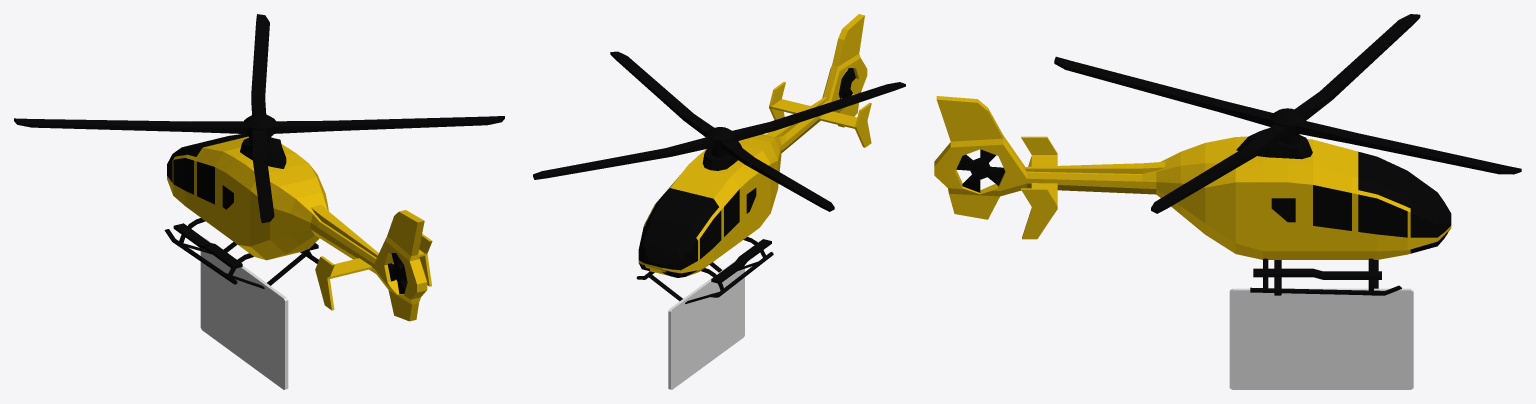
Rendered from Helicopter.fbx.
3 views of the same model, side by side, from view 1: azimuth 30°, elevation 25°; view 2: azimuth 150°, elevation 25°; view 3: azimuth 270°, elevation 25° (orthographic). The views are drawn at different scales.
Visible parts, largest first — view 1: Cube.001, Cube.002, Cube, Cube.005, Cube.003; view 2: Cube.001, Cube.002, Cube, Cube.005, Cube.003; view 3: Cube.001, Cube, Cube.002, Cube.003.
Boxes of the visible parts, x1,y1,x2,y2 form: Cube.001: (164,134,432,321); Cube.002: (14,14,504,223); Cube: (200,238,288,389); Cube.005: (183,242,305,288); Cube.003: (387,253,407,293); Cube.001: (636,14,871,297); Cube.002: (533,51,905,211); Cube: (668,260,744,389); Cube.005: (649,261,757,303); Cube.003: (838,68,855,99); Cube.001: (934,96,1451,295); Cube: (1229,288,1413,389); Cube.002: (1054,14,1521,213); Cube.003: (956,149,1004,192).
Bounding box in the file's own units: 592 × 407 × 744.
